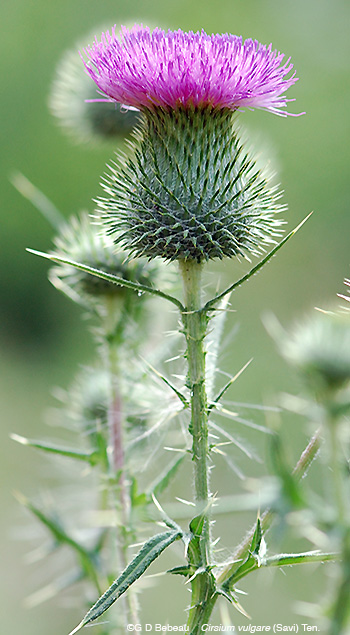thistle: (71, 25, 299, 262)
